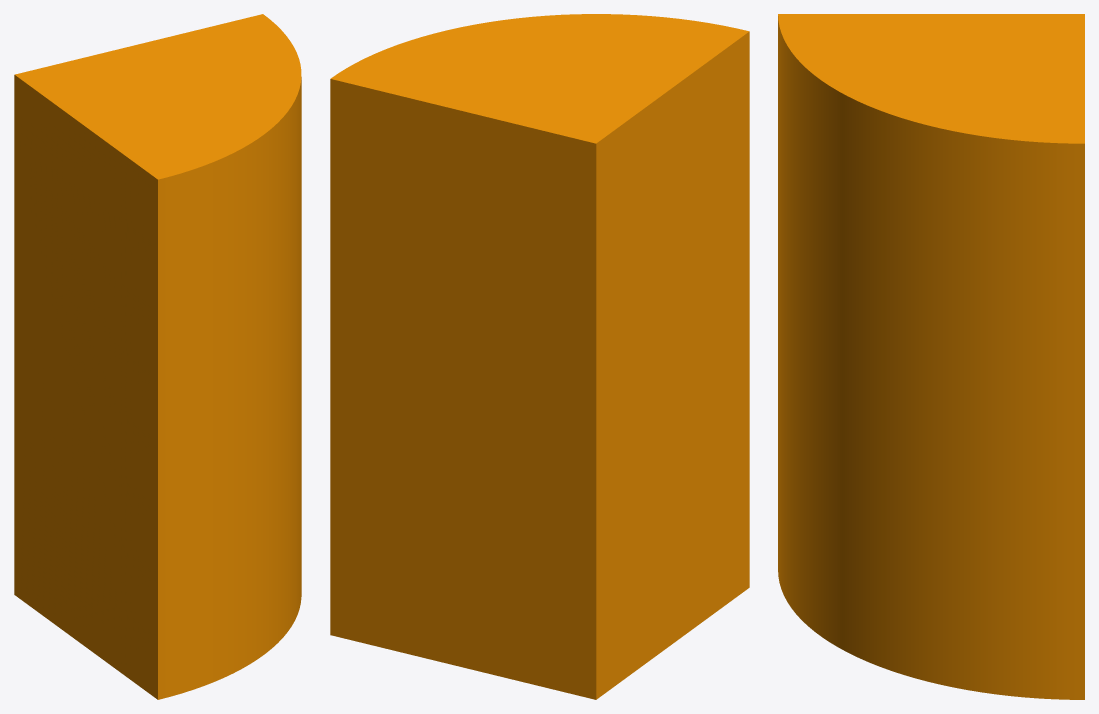
File: SM_QuarterCylinder_236fd6061b.glb
3 renders of one model, left to right at view 1: azimuth 30°, elevation 25°; view 2: azimuth 150°, elevation 25°; view 3: azimuth 270°, elevation 25°, orthographic. The views are drawn at different scales.
Parts seen in each view (by area): view 1: SM_Cylinder2; view 2: SM_Cylinder2; view 3: SM_Cylinder2.
Boxes of the visible parts, bbox=[...] form: SM_Cylinder2: bbox=[14, 14, 301, 699]; SM_Cylinder2: bbox=[330, 14, 749, 699]; SM_Cylinder2: bbox=[778, 14, 1084, 699].
Size of the model in its own units: 0.5 by 1 by 0.5.
